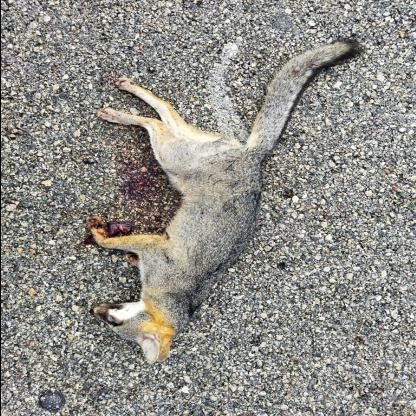zorro: (82, 34, 368, 370)
